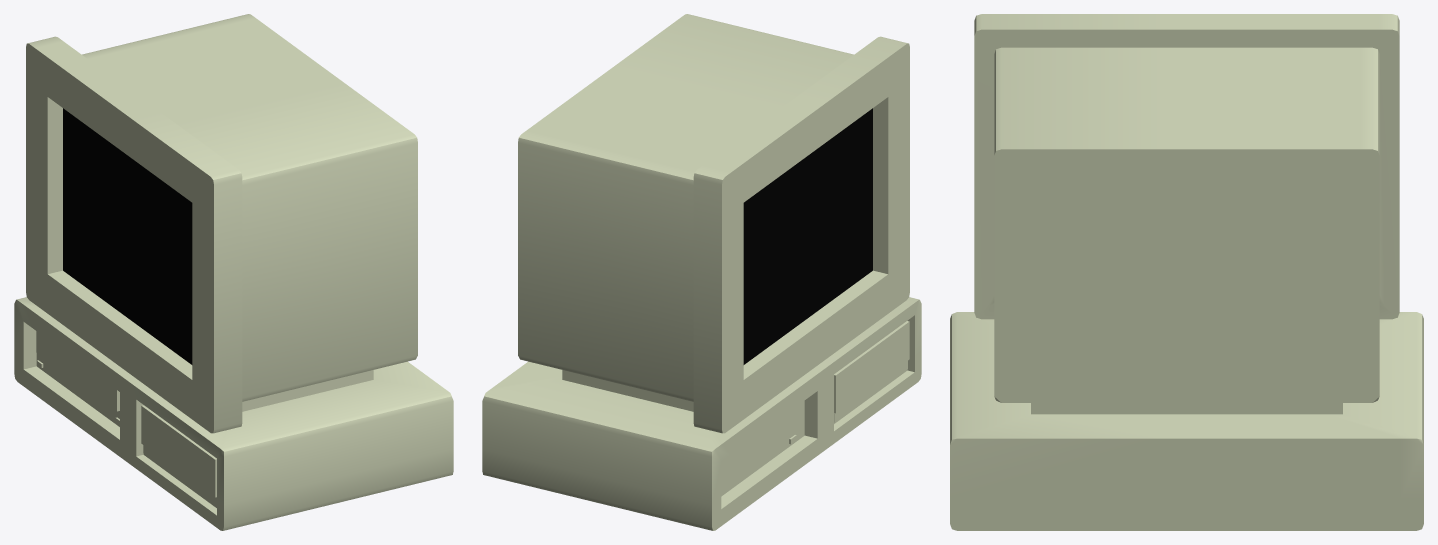
3 views of the same model, side by side, from view 1: azimuth 30°, elevation 25°; view 2: azimuth 150°, elevation 25°; view 3: azimuth 270°, elevation 25° (orthographic). The views are drawn at different scales.
Visible parts, largest first — view 1: Box008; view 2: Box008; view 3: Box008.
Boxes of the visible parts, left/top/right/bottom form: Box008: left=14, top=14, right=453, bottom=530; Box008: left=482, top=14, right=921, bottom=530; Box008: left=950, top=14, right=1423, bottom=530.
Bounding box in the file's own units: 0.408 × 0.5868 × 0.6447.
